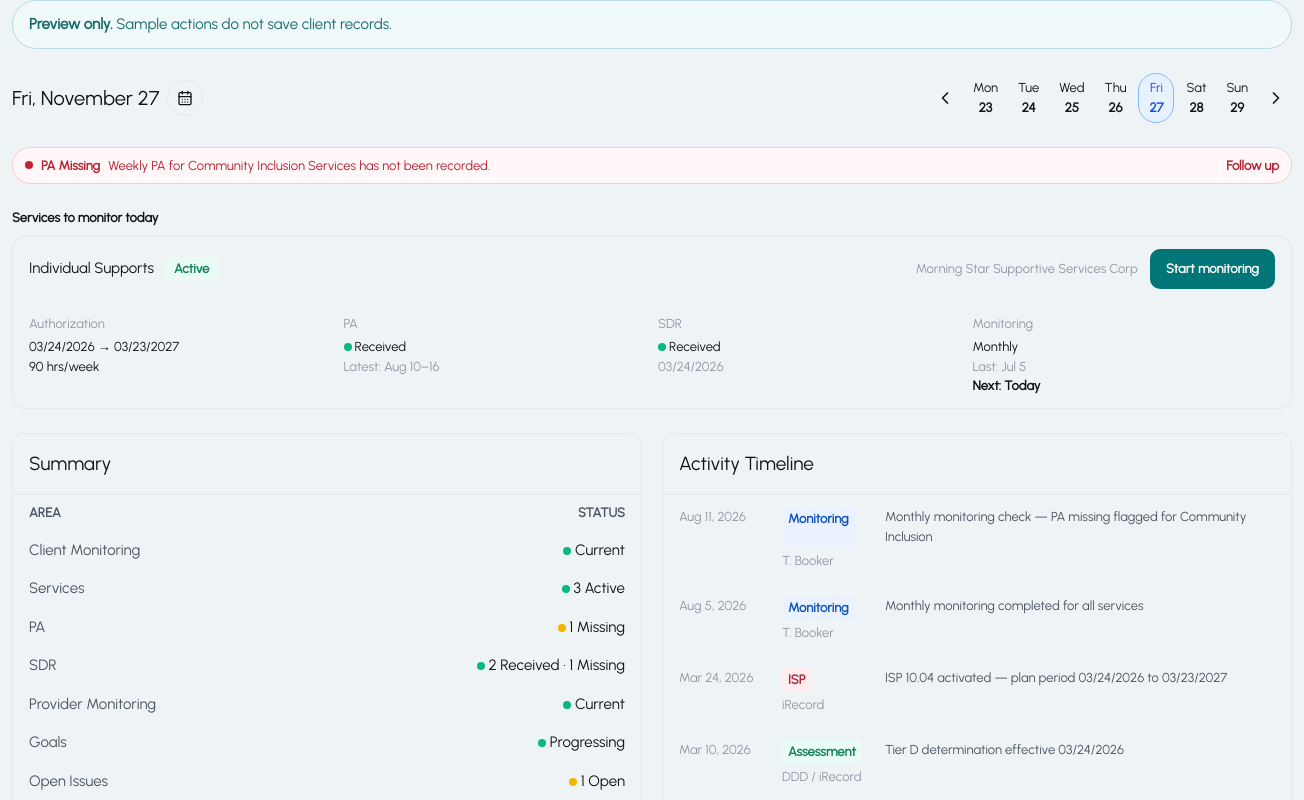
it: opens monitoring on the current week with today selected
The width and height of the screenshot is (1304, 800).
Expected: the message named "Sample preview" reads "Preview only. Sample actions do not save client records.", [12,0,1292,48]
Expected: the button "Start monitoring" is shown, [1150,248,1275,288]
Click the button named "Next week": [1276, 98] box [1260,82,1292,114]
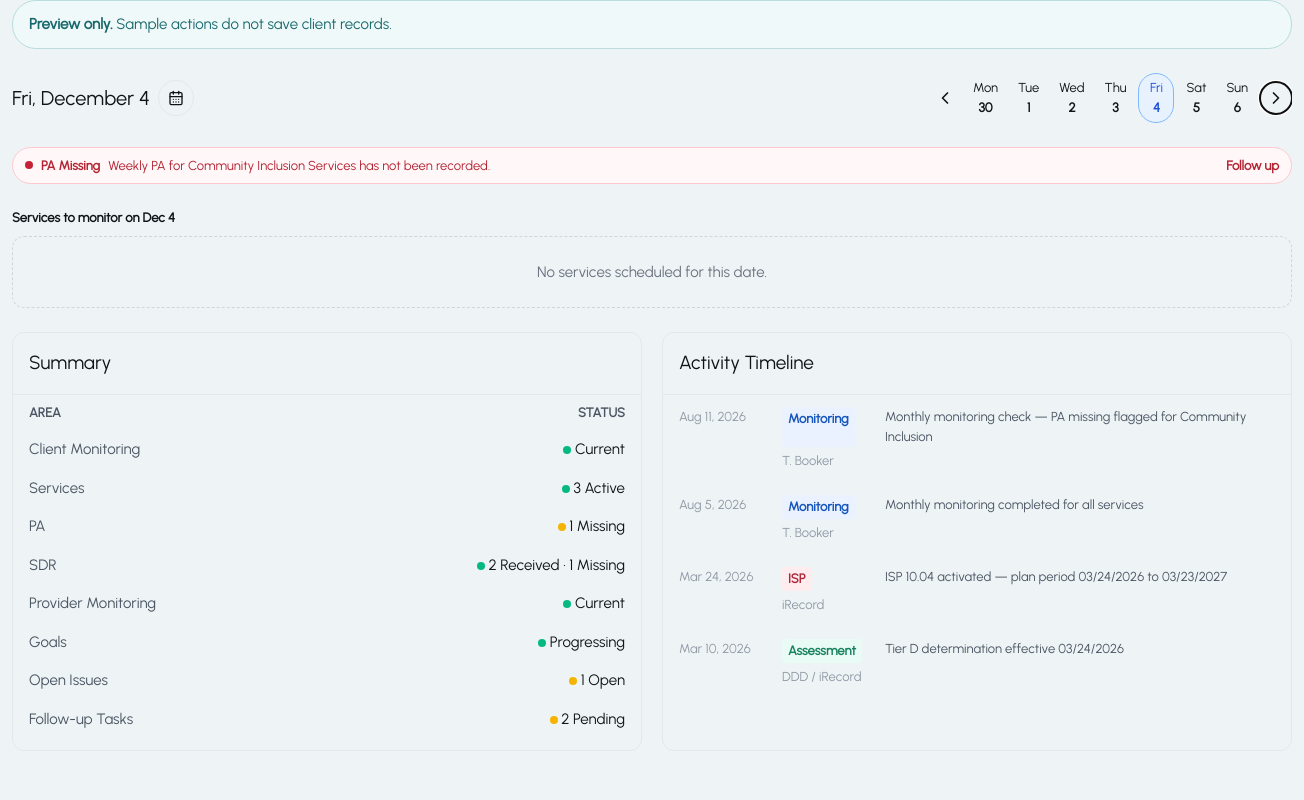
Now the text "No services scheduled for this date." is shown, box [12,236,1292,308]
